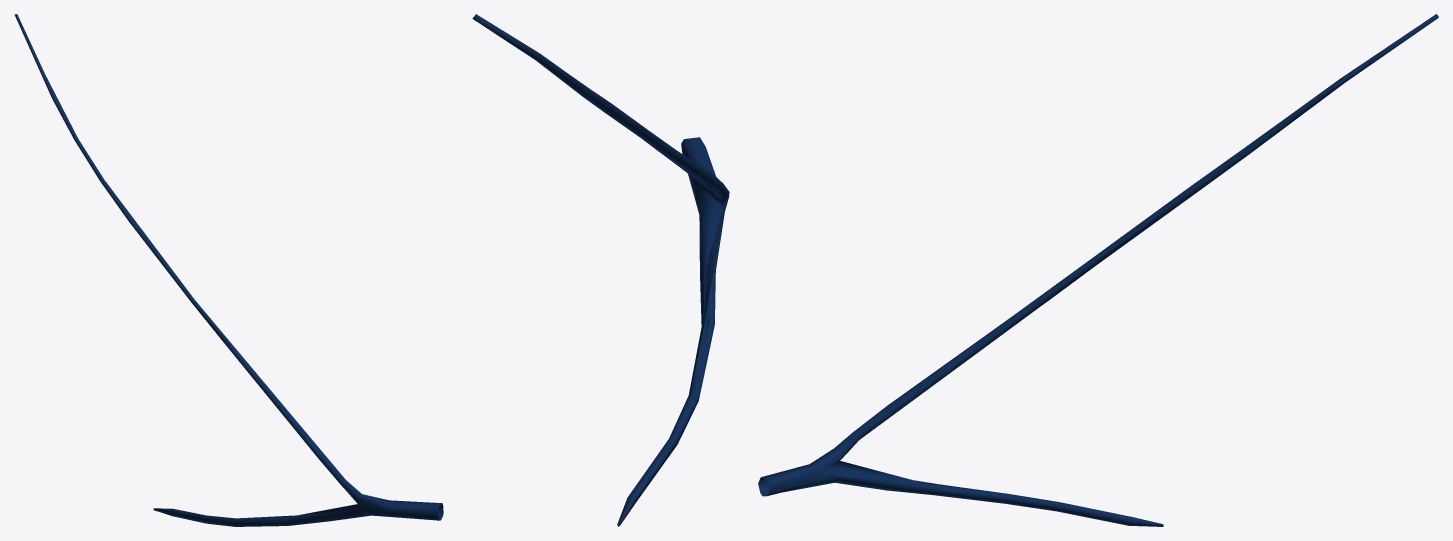
Rendered from R vena thoracodorsalis.fbx.
3 renders of one model, left to right at view 1: azimuth 30°, elevation 25°; view 2: azimuth 150°, elevation 25°; view 3: azimuth 270°, elevation 25°, orthographic. The views are drawn at different scales.
Visible parts, largest first — view 1: R vena thoracodorsalis, R vena thoracodorsalis low; view 2: R vena thoracodorsalis, R vena thoracodorsalis low; view 3: R vena thoracodorsalis, R vena thoracodorsalis low.
Boxes of the visible parts, <box> form: R vena thoracodorsalis: <box>14,14,443,526</box>; R vena thoracodorsalis low: <box>46,77,443,525</box>; R vena thoracodorsalis: <box>472,14,729,526</box>; R vena thoracodorsalis low: <box>559,77,727,391</box>; R vena thoracodorsalis: <box>758,14,1438,526</box>; R vena thoracodorsalis low: <box>758,59,1371,518</box>.
Bounding box in the file's own units: 4.22 × 11.14 × 13.78.
